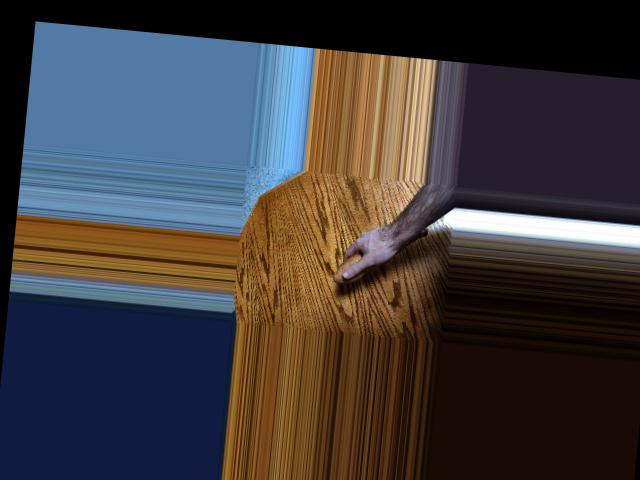sweet_potato: (332, 212, 433, 293)
